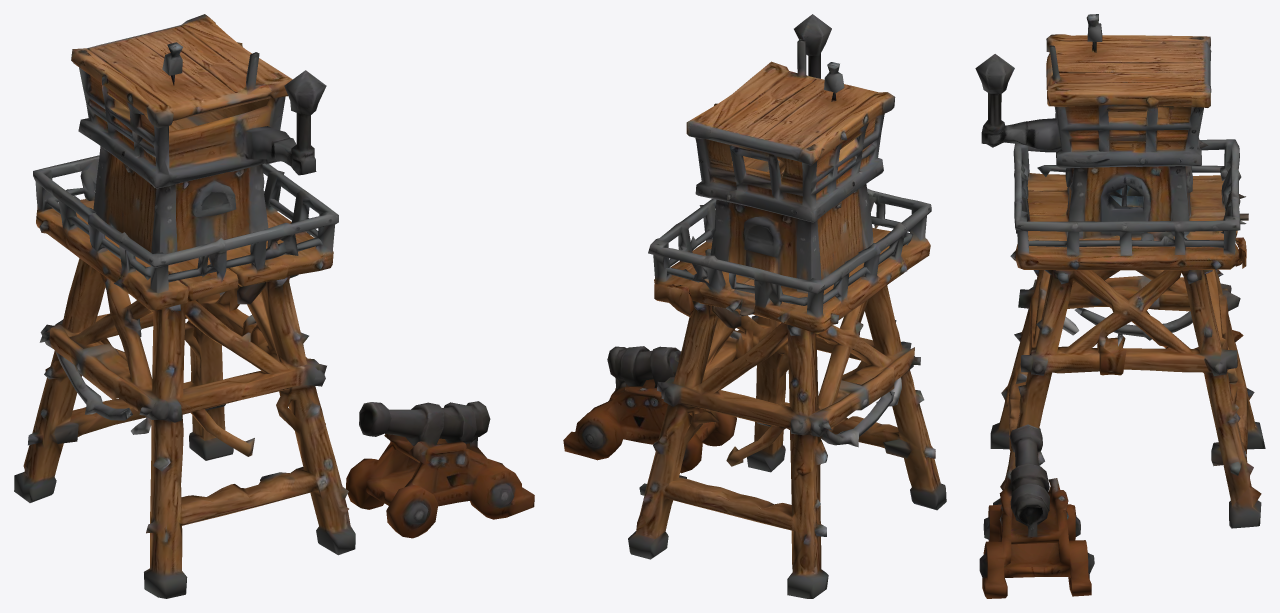
File: bld_outpost.glb
The picture shows the model from 3 angles, left to right: view 1: azimuth 30°, elevation 25°; view 2: azimuth 150°, elevation 25°; view 3: azimuth 270°, elevation 25°; orthographic projection. The views are drawn at different scales.
Visible parts, largest first — view 1: tripo_node_7fddb19e-532f-4bd6-8daa-8cf7eb2f8540; view 2: tripo_node_7fddb19e-532f-4bd6-8daa-8cf7eb2f8540; view 3: tripo_node_7fddb19e-532f-4bd6-8daa-8cf7eb2f8540.
Boxes of the visible parts, left/top/right/bottom form: tripo_node_7fddb19e-532f-4bd6-8daa-8cf7eb2f8540: left=14, top=14, right=534, bottom=598; tripo_node_7fddb19e-532f-4bd6-8daa-8cf7eb2f8540: left=563, top=14, right=946, bottom=598; tripo_node_7fddb19e-532f-4bd6-8daa-8cf7eb2f8540: left=975, top=14, right=1265, bottom=598.
Bounding box in the file's own units: 0.7855 × 0.9996 × 0.5797.
1 material, 1 textured.
